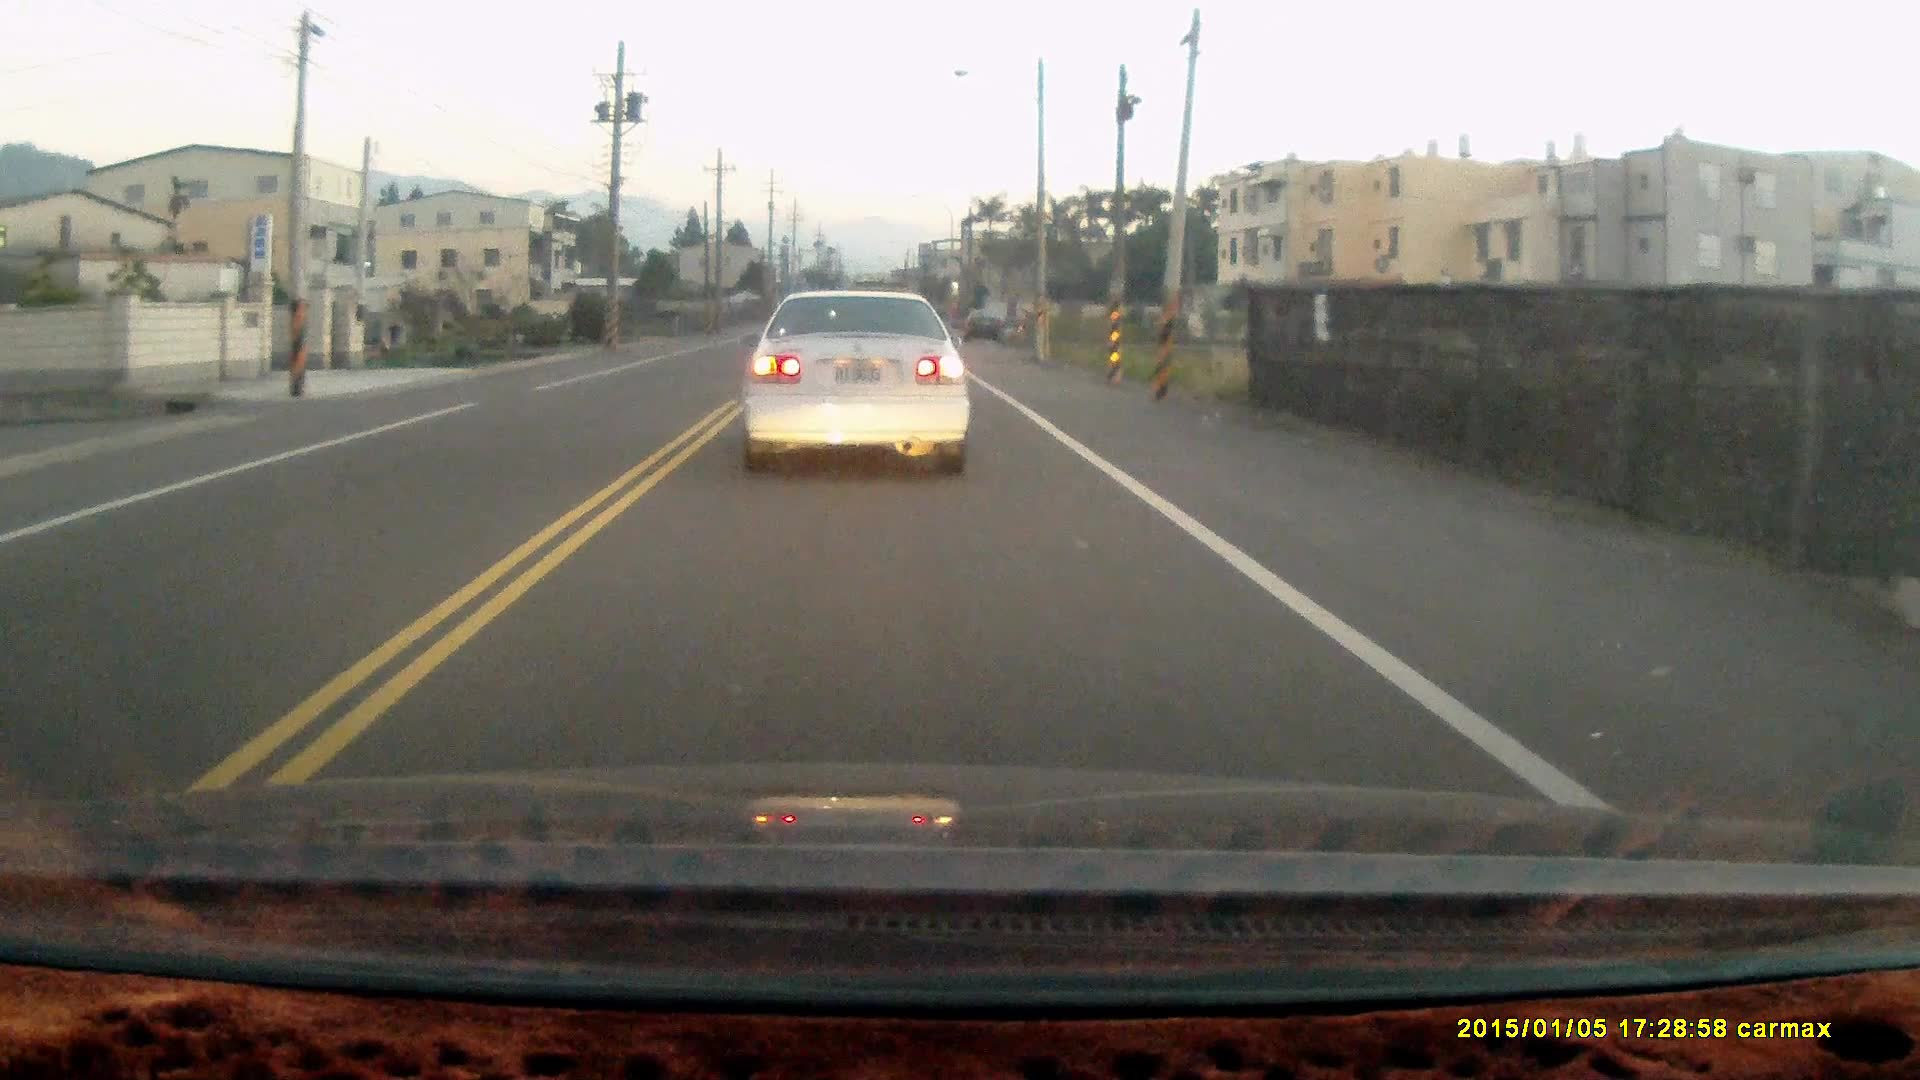vehicle: (742, 286, 976, 477), (964, 306, 1007, 343)
